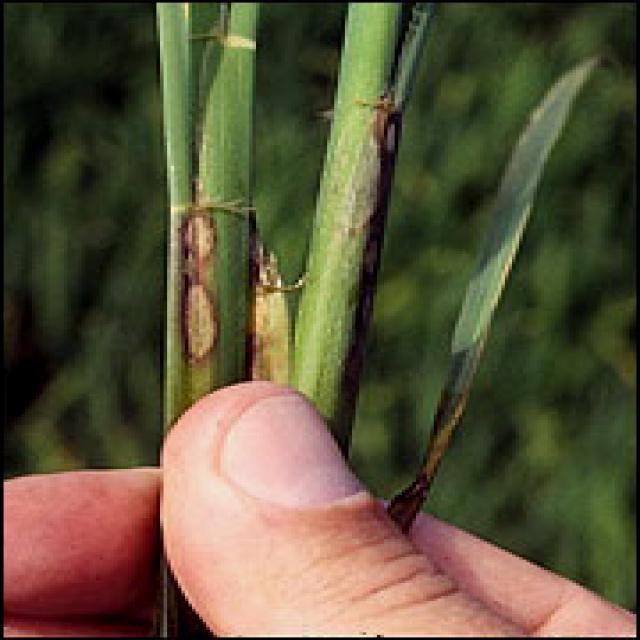Bacterial_Leaf_Blight: (342, 101, 402, 345), (175, 201, 228, 369), (245, 261, 288, 381)
